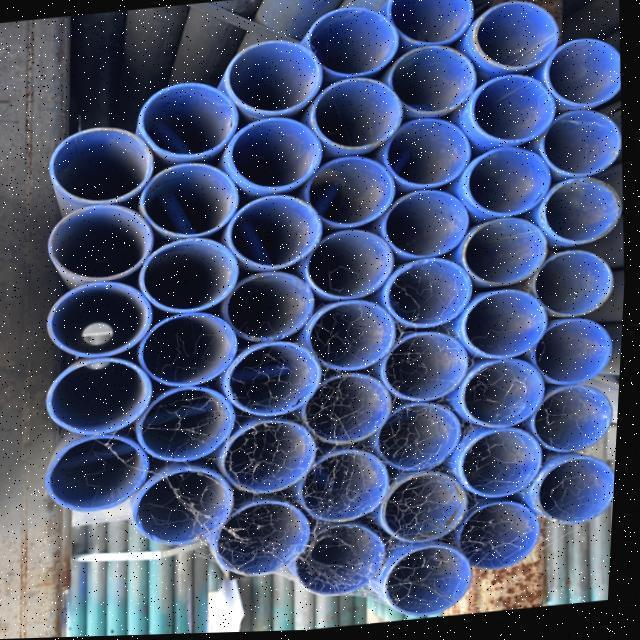pipe: (46, 351, 163, 440), (44, 278, 162, 366), (46, 121, 162, 209), (44, 200, 160, 288), (45, 431, 159, 518), (136, 382, 248, 468), (135, 464, 245, 551), (134, 158, 245, 244), (224, 336, 332, 424), (134, 77, 242, 164), (138, 235, 247, 319), (140, 309, 246, 394), (224, 192, 330, 276), (221, 114, 329, 196), (217, 497, 322, 581), (222, 35, 328, 118), (222, 418, 326, 500), (302, 451, 402, 533), (308, 73, 409, 154), (304, 372, 404, 453), (304, 152, 404, 232), (224, 268, 324, 348), (307, 298, 407, 378), (303, 6, 405, 84), (384, 256, 485, 334), (380, 466, 476, 548), (304, 228, 404, 306), (386, 40, 484, 119), (302, 527, 401, 605), (383, 114, 481, 192), (464, 427, 558, 508), (384, 328, 481, 406), (384, 541, 482, 618), (464, 70, 560, 148), (467, 144, 563, 222), (464, 359, 562, 435), (464, 288, 560, 365), (384, 188, 481, 264), (468, 0, 564, 76), (463, 216, 558, 292), (464, 502, 556, 580), (378, 399, 472, 475), (530, 248, 622, 324), (533, 314, 622, 390), (531, 382, 620, 458), (537, 455, 621, 531), (541, 108, 626, 183), (542, 177, 628, 248), (546, 34, 625, 110), (386, 0, 480, 50)
